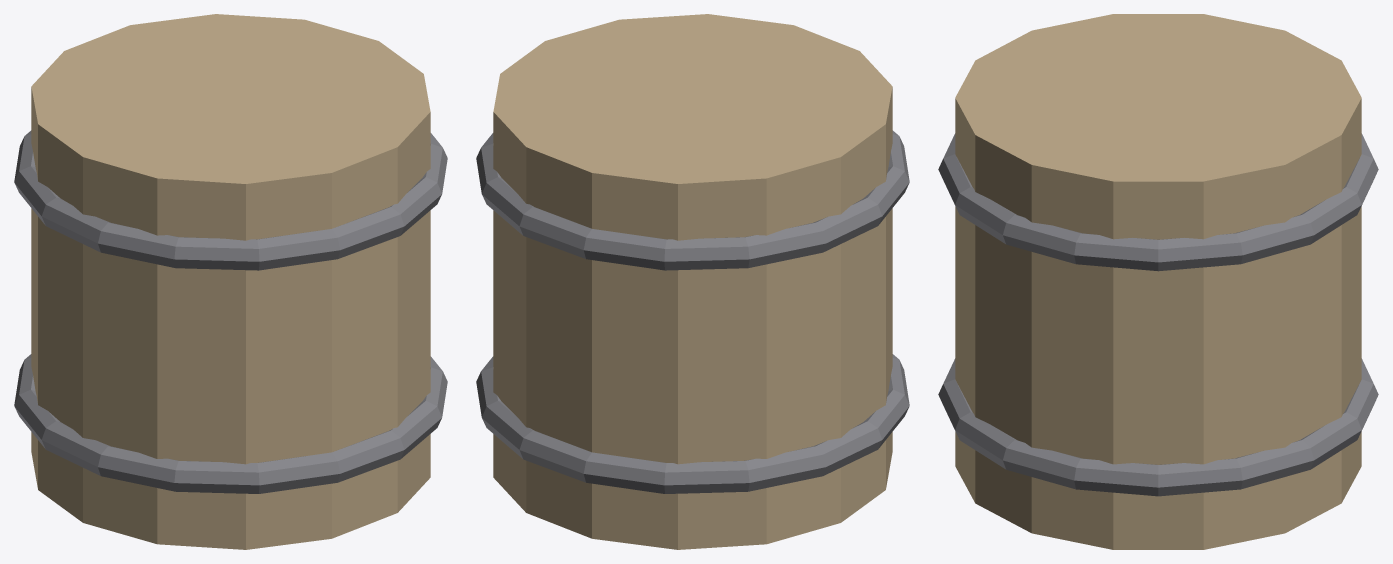
The model's file is barrel.glb.
The picture shows the model from 3 angles, left to right: view 1: azimuth 30°, elevation 25°; view 2: azimuth 150°, elevation 25°; view 3: azimuth 270°, elevation 25°; orthographic projection.
Visible parts, largest first — view 1: Barrel_Body, Barrel_Band_Top, Barrel_Band_Bottom; view 2: Barrel_Body, Barrel_Band_Top, Barrel_Band_Bottom; view 3: Barrel_Body, Barrel_Band_Bottom, Barrel_Band_Top.
Boxes of the visible parts, bbox=[...] form: Barrel_Body: bbox=[31, 14, 430, 549]; Barrel_Band_Top: bbox=[14, 130, 447, 270]; Barrel_Band_Bottom: bbox=[14, 354, 447, 493]; Barrel_Body: bbox=[493, 14, 892, 549]; Barrel_Band_Top: bbox=[476, 130, 909, 270]; Barrel_Band_Bottom: bbox=[476, 354, 909, 493]; Barrel_Body: bbox=[955, 14, 1361, 549]; Barrel_Band_Bottom: bbox=[938, 358, 1378, 496]; Barrel_Band_Top: bbox=[938, 133, 1378, 271].
Bounding box in the file's own units: 0.78 × 0.72 × 0.78.
